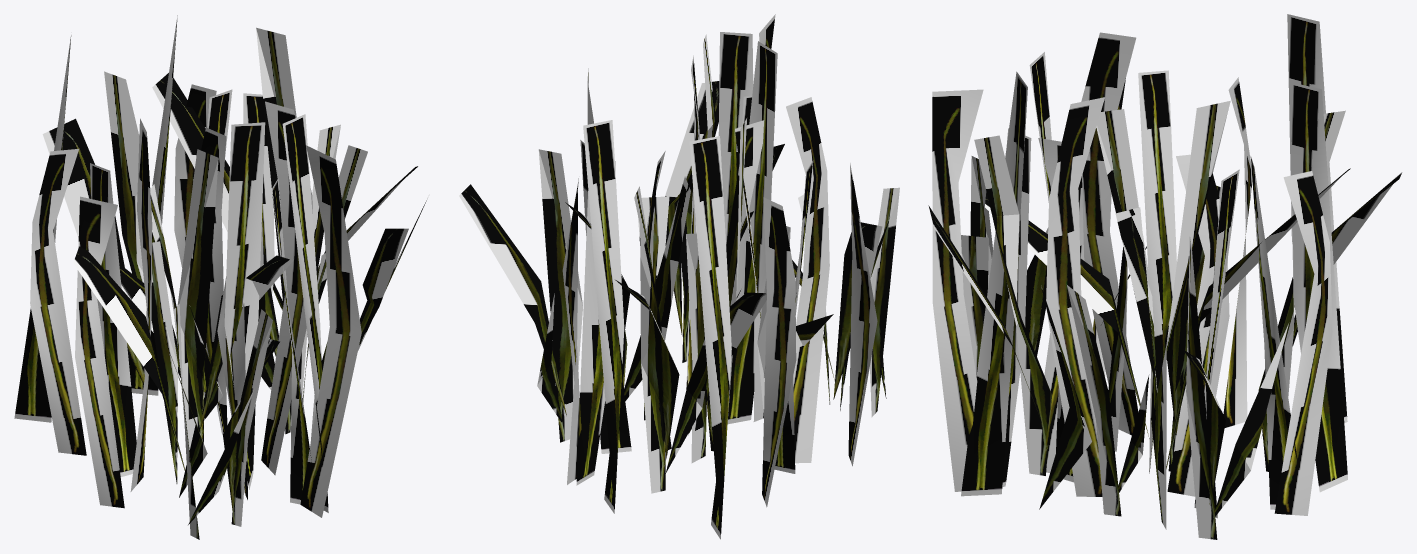
The model's file is Kentucky_LOD1.fbx.
3 renders of one model, left to right at view 1: azimuth 30°, elevation 25°; view 2: azimuth 150°, elevation 25°; view 3: azimuth 270°, elevation 25°, orthographic. The views are drawn at different scales.
Parts seen in each view (by area): view 1: Kentucky_LOD1; view 2: Kentucky_LOD1; view 3: Kentucky_LOD1.
Part boxes in pixels (x1,y1,x2,y2): Kentucky_LOD1: (14,15,427,539); Kentucky_LOD1: (459,14,899,539); Kentucky_LOD1: (928,14,1402,539).
Bounding box in the file's own units: 0.3311 × 0.316 × 0.3195.
